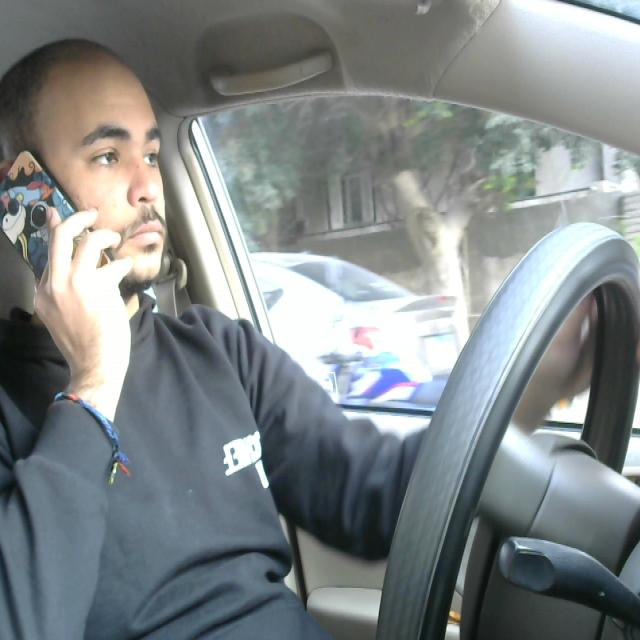mobile use: (0, 142, 122, 319)
